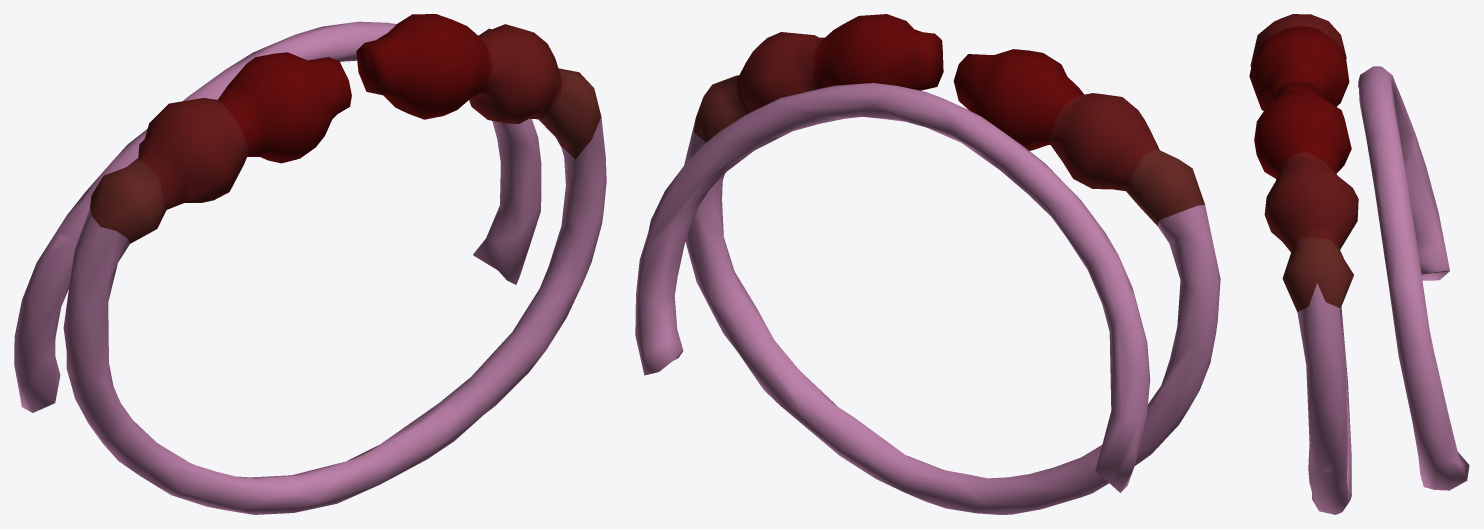
Rendered from bracelet_red.obj.
3 renders of one model, left to right at view 1: azimuth 30°, elevation 25°; view 2: azimuth 150°, elevation 25°; view 3: azimuth 270°, elevation 25°, orthographic. The views are drawn at different scales.
Visible parts, largest first — view 1: bracelet__red2_Model.003; view 2: bracelet__red2_Model.003; view 3: bracelet__red2_Model.003.
Part boxes in pixels (x1,y1,x2,y2): bracelet__red2_Model.003: (14,14,606,514); bracelet__red2_Model.003: (635,14,1220,514); bracelet__red2_Model.003: (1249,14,1469,514).
Size of the model in its own units: 0.4453 by 0.3708 by 0.1704.
